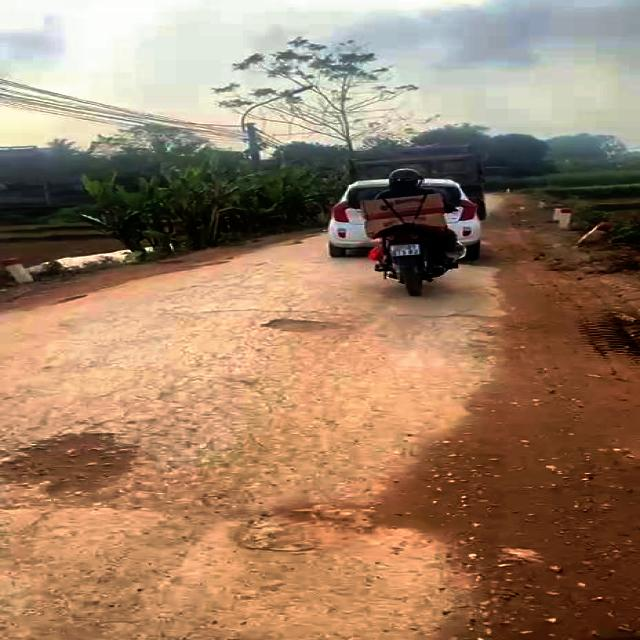pothole: (0, 426, 152, 509), (262, 316, 357, 334)
